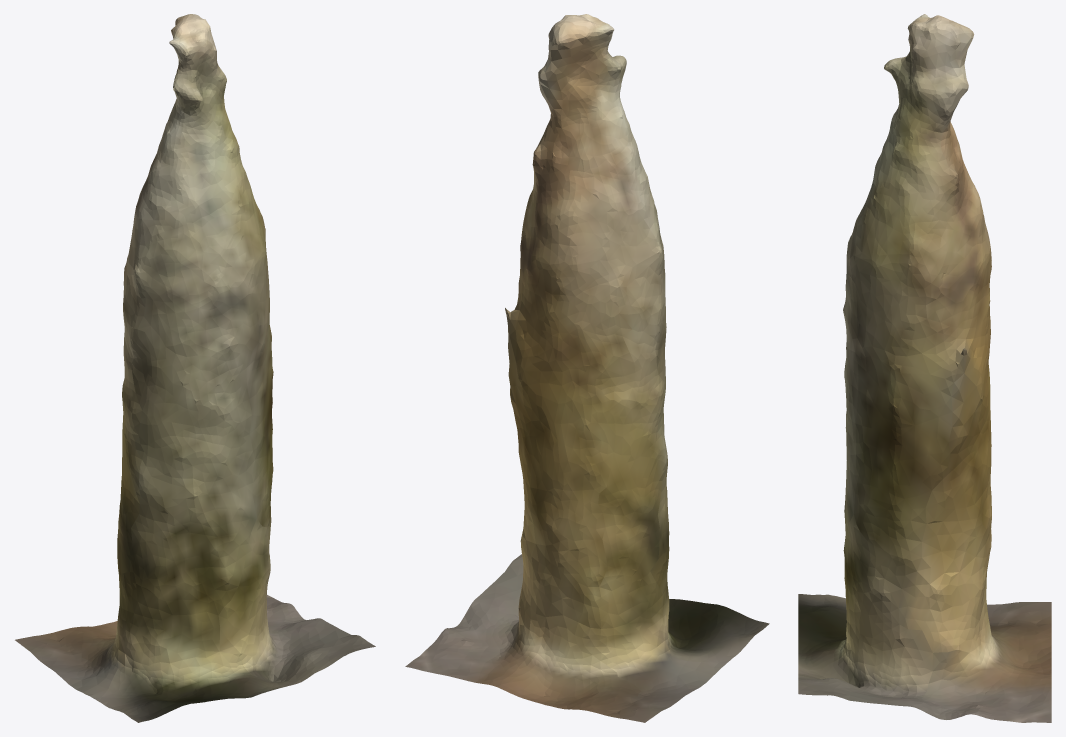
3 renders of one model, left to right at view 1: azimuth 30°, elevation 25°; view 2: azimuth 150°, elevation 25°; view 3: azimuth 270°, elevation 25°, orthographic. The views are drawn at different scales.
Visible parts, largest first — view 1: Node1; view 2: Node1; view 3: Node1.
Boxes of the visible parts, box(x1,y1,x2,y2) form: Node1: box(15, 14, 375, 722); Node1: box(405, 14, 769, 722); Node1: box(798, 14, 1051, 722).
Size of the model in its own units: 0.0361 by 0.0931 by 0.0326.
1 material, 1 textured.
